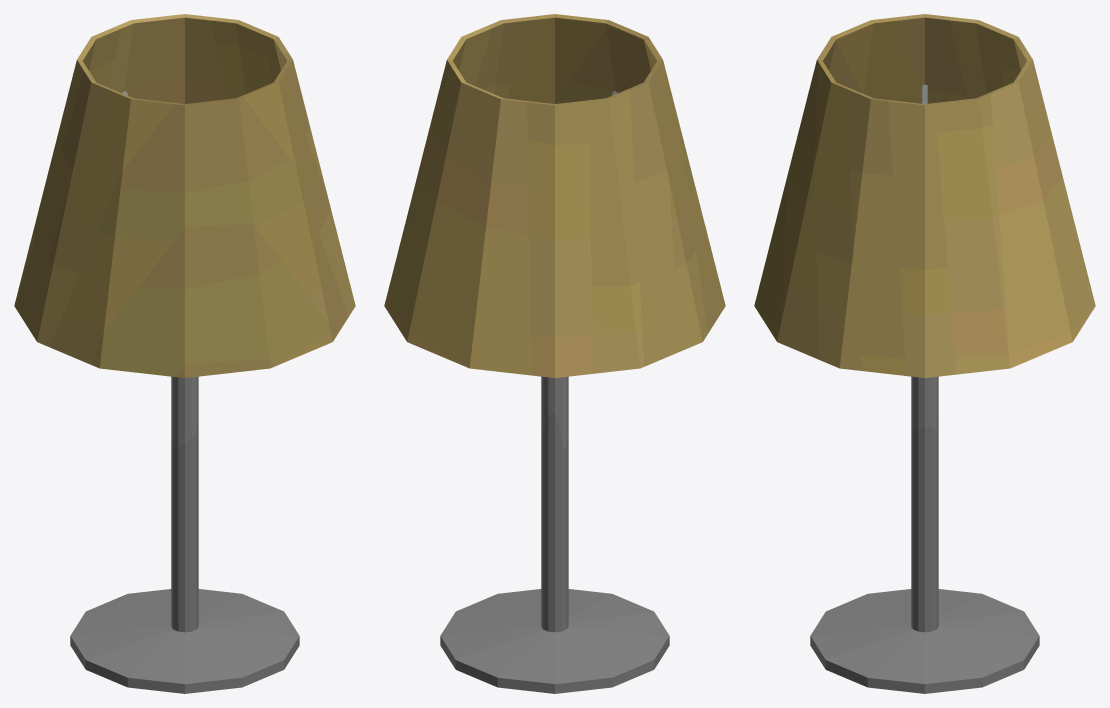
Rendered from cand_lamp_google-w.glb.
3 views of the same model, side by side, from view 1: azimuth 30°, elevation 25°; view 2: azimuth 150°, elevation 25°; view 3: azimuth 270°, elevation 25° (orthographic).
Parts seen in each view (by area): view 1: Lamp; view 2: Lamp; view 3: Lamp.
Boxes of the visible parts, bbox=[...] form: Lamp: bbox=[14, 14, 355, 693]; Lamp: bbox=[384, 14, 725, 693]; Lamp: bbox=[754, 14, 1095, 693].
Bounding box in the file's own units: 93.47 × 177 × 93.47.
Materials: 1 (1 with a texture image).
